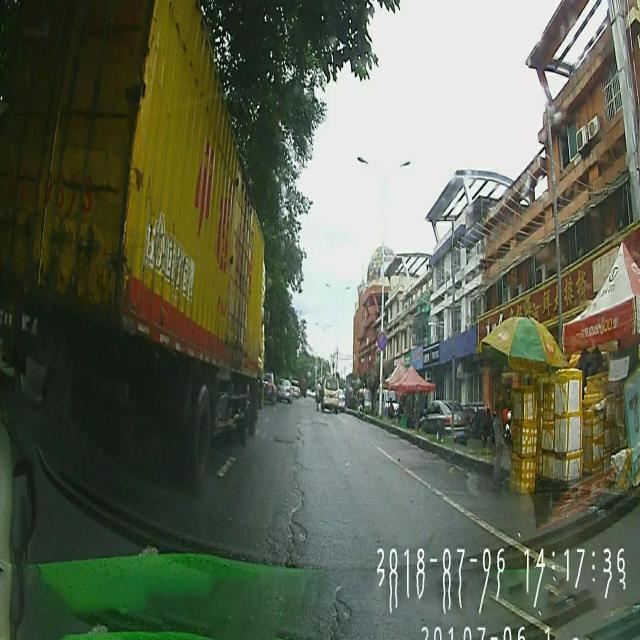car: (420, 400, 470, 446), (322, 375, 338, 412), (260, 372, 278, 404), (278, 378, 293, 401)
